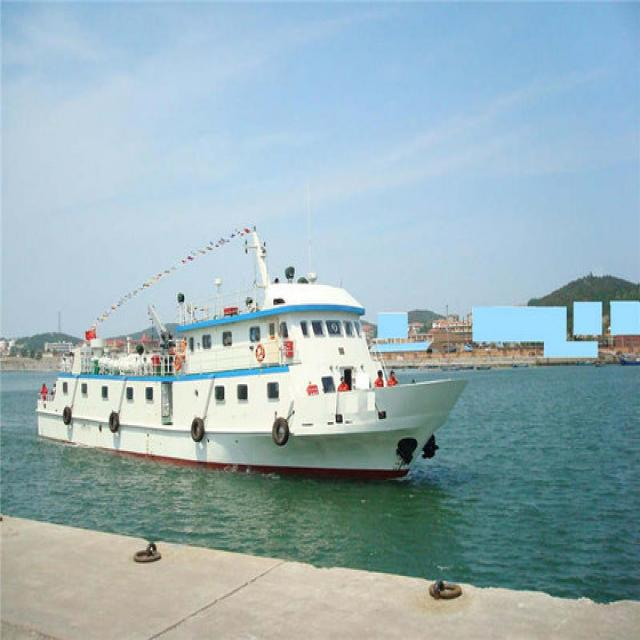passenger ship: (31, 237, 460, 484)
